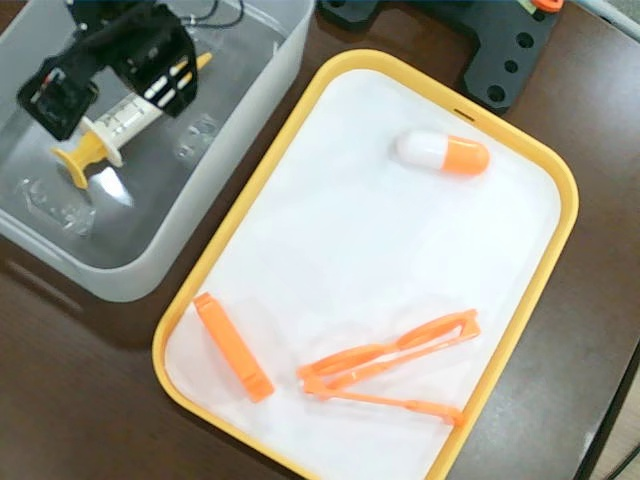pill: (394, 126, 494, 181)
syringe: (55, 51, 213, 188)
